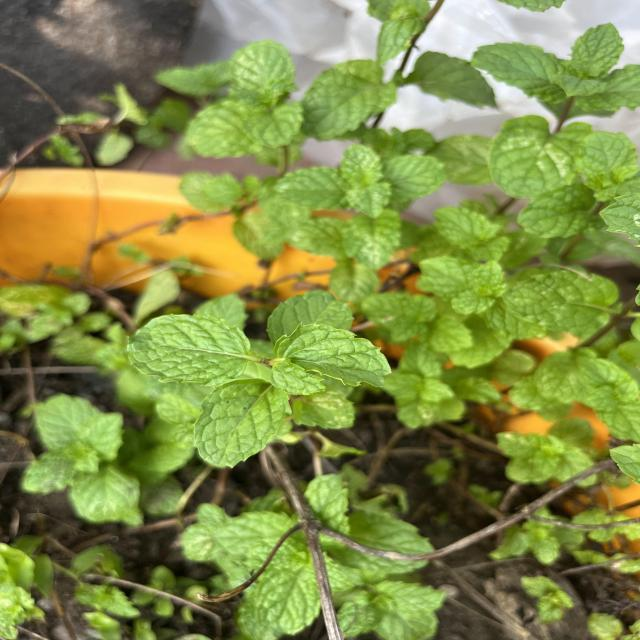Mentha spicata: (126, 312, 253, 388), (192, 377, 293, 469)
